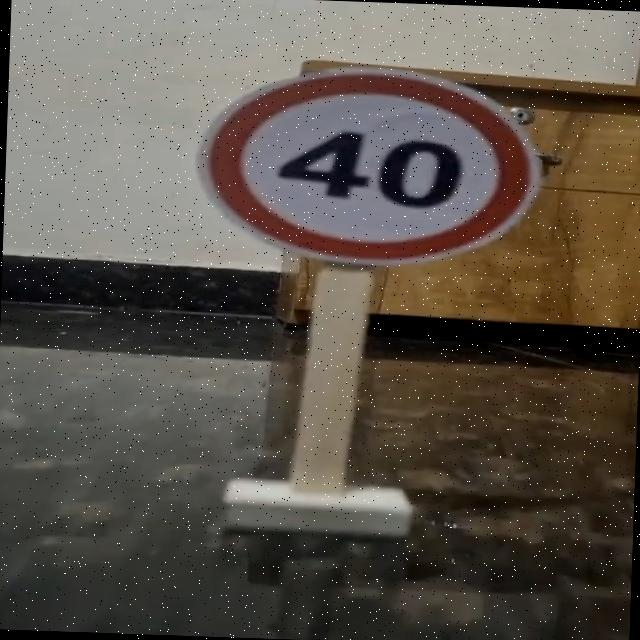Speed40: (187, 57, 546, 276)
